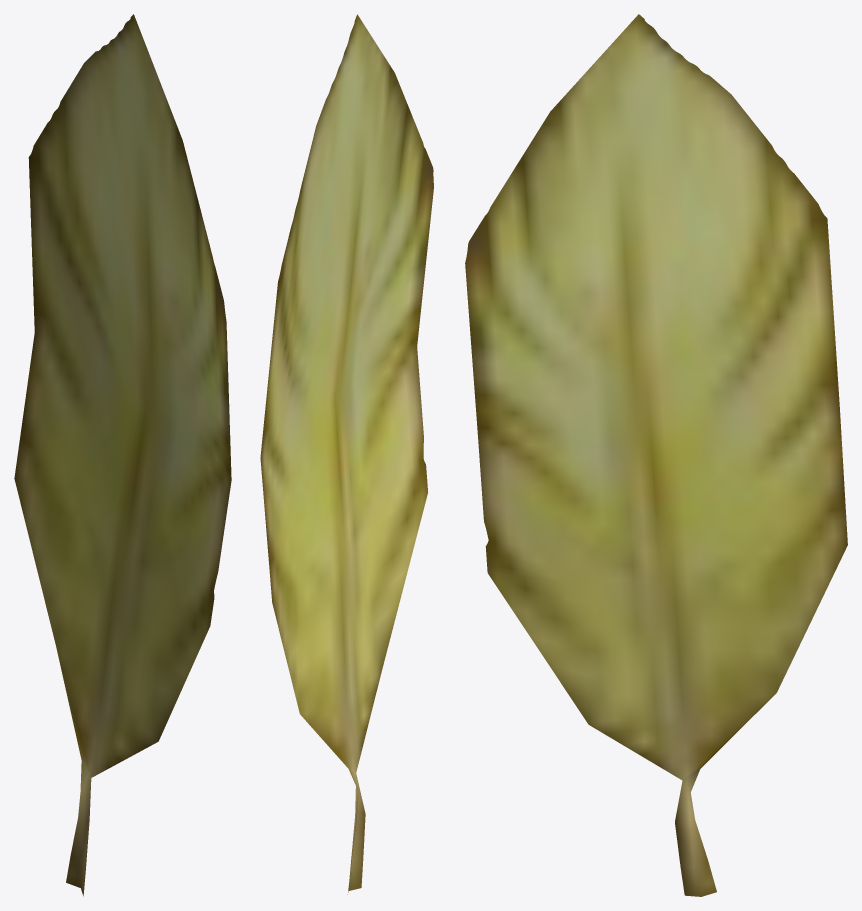
The model's file is feather.glb.
3 views of the same model, side by side, from view 1: azimuth 30°, elevation 25°; view 2: azimuth 150°, elevation 25°; view 3: azimuth 270°, elevation 25° (orthographic). The views are drawn at different scales.
Visible parts, largest first — view 1: feather; view 2: feather; view 3: feather.
Boxes of the visible parts, left/top/right/bottom form: feather: left=14, top=14, right=231, bottom=896; feather: left=260, top=14, right=433, bottom=894; feather: left=465, top=14, right=847, bottom=896.
Size of the model in its own units: 0.1576 by 2.42 by 0.939.
1 material, 1 textured.
